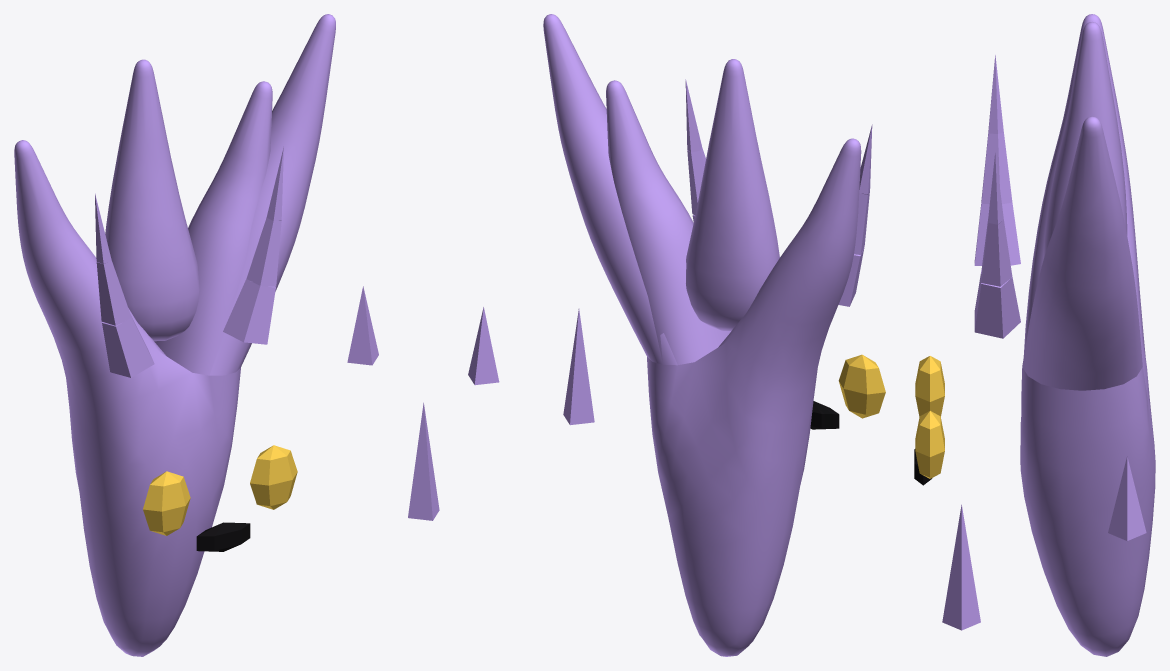
Rendered from mon_spir_01.glb.
3 renders of one model, left to right at view 1: azimuth 30°, elevation 25°; view 2: azimuth 150°, elevation 25°; view 3: azimuth 270°, elevation 25°, orthographic. The views are drawn at different scales.
Parts seen in each view (by area): view 1: mon_spir_01; view 2: mon_spir_01; view 3: mon_spir_01.
Part boxes in pixels (box(x1,y1,x2,y2)): mon_spir_01: box(14, 14, 439, 656); mon_spir_01: box(468, 14, 885, 656); mon_spir_01: box(914, 14, 1155, 656).
Bounding box in the file's own units: 0.5021 × 0.7576 × 0.2619.
Materials: 3 (1 with a texture image).
